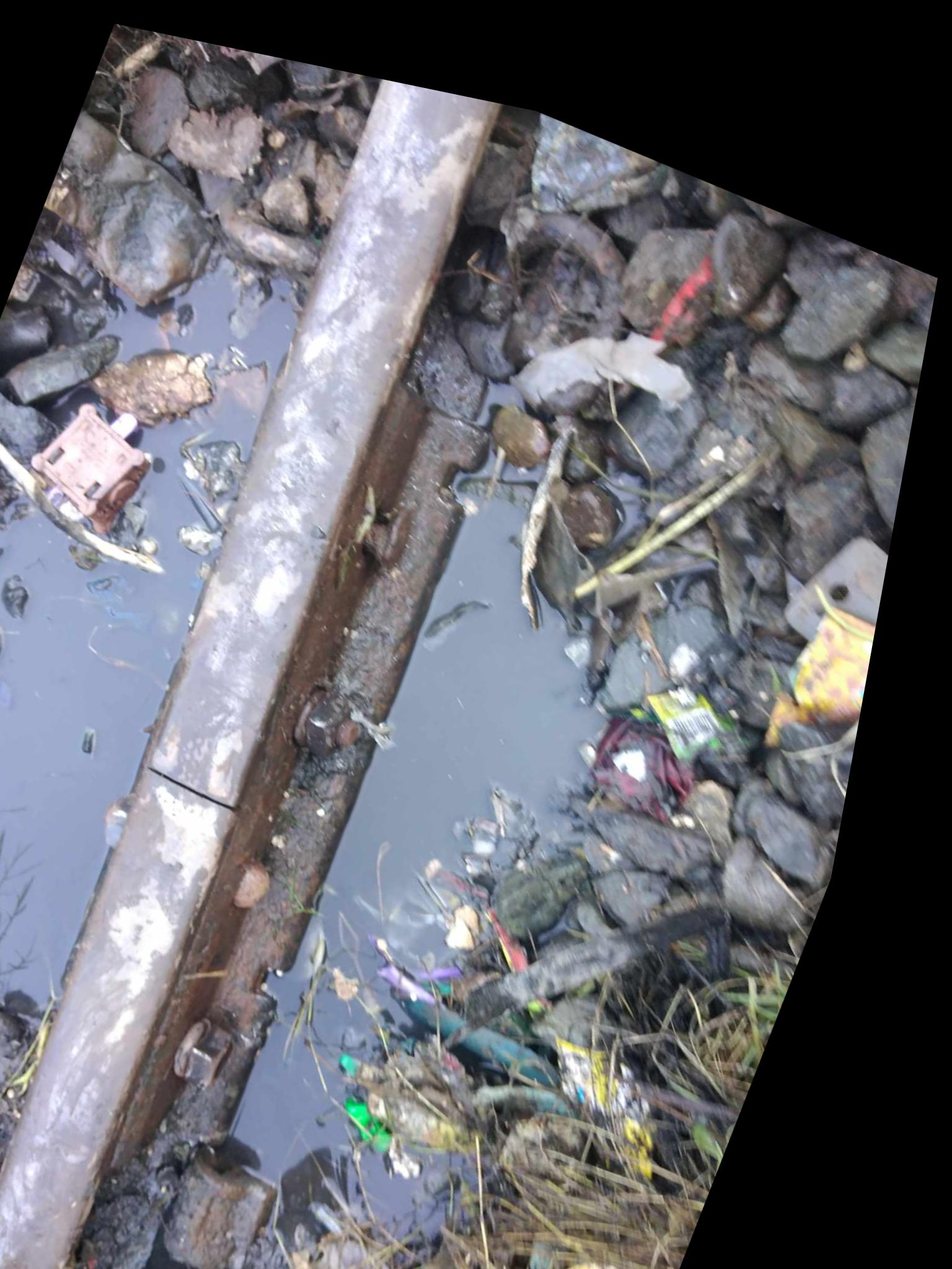person: (107, 661, 338, 894)
